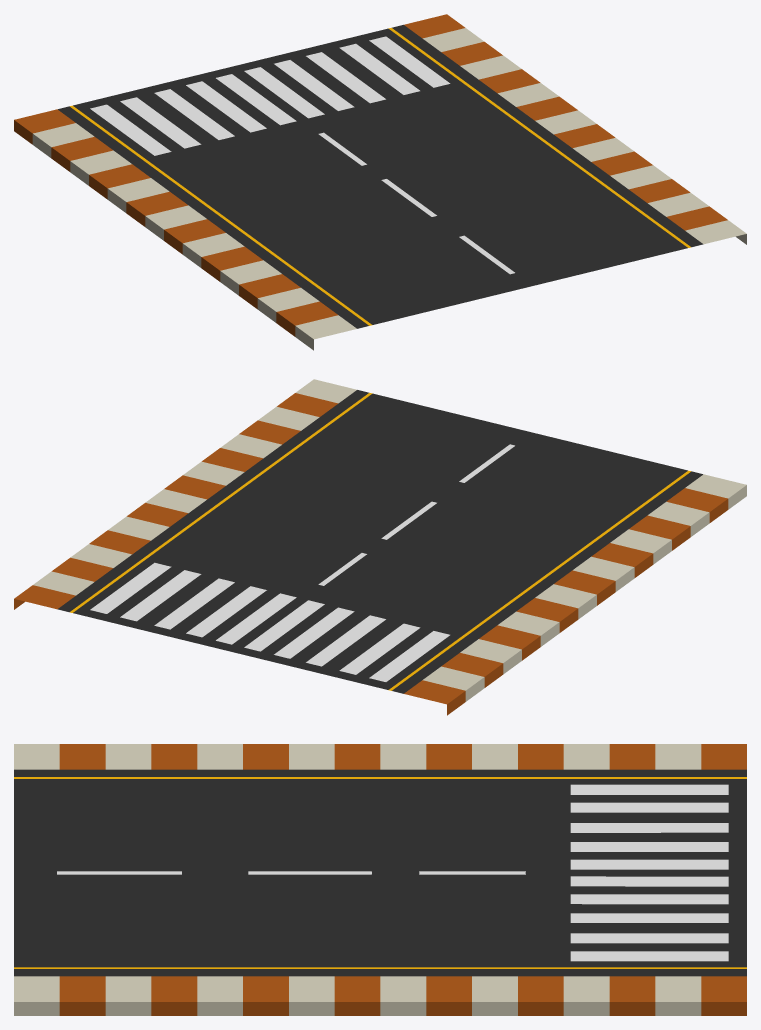
The model's file is SM_Road_04.fbx.
3 views of the same model, one above another, from view 1: azimuth 30°, elevation 25°; view 2: azimuth 150°, elevation 25°; view 3: azimuth 270°, elevation 25° (orthographic). The views are drawn at different scales.
Parts seen in each view (by area): view 1: SM_Road_04_LOD0; view 2: SM_Road_04_LOD0; view 3: SM_Road_04_LOD0.
Part boxes in pixels (left/top/right/bottom): SM_Road_04_LOD0: left=14, top=14, right=746, bottom=350; SM_Road_04_LOD0: left=14, top=379, right=746, bottom=715; SM_Road_04_LOD0: left=14, top=744, right=746, bottom=1015.
Bounding box in the file's own units: 1000 × 1200 × 25.
1 material, 1 textured.
